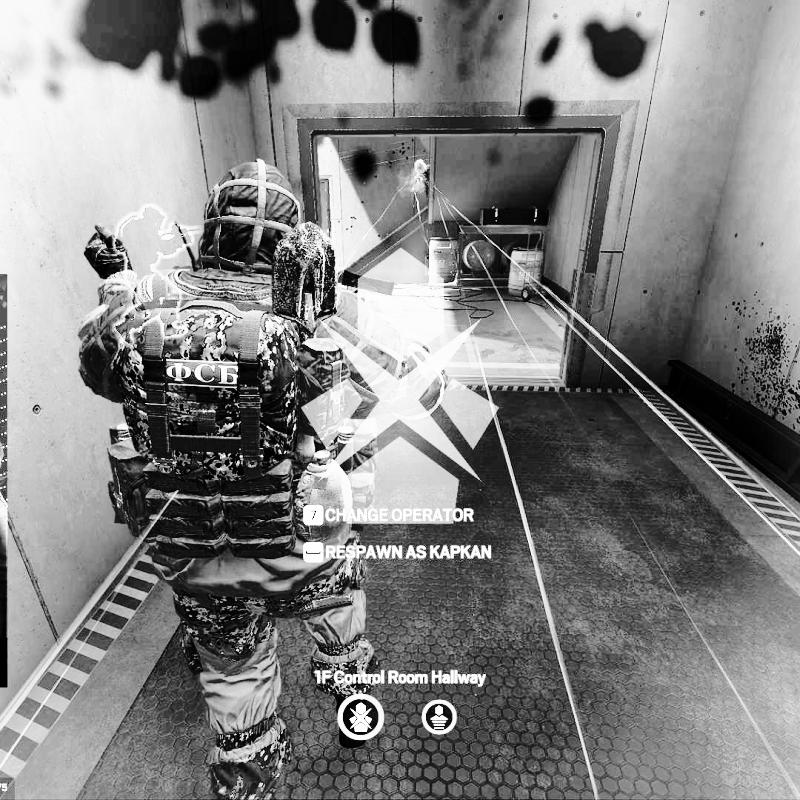Character: (74, 157, 453, 800), (413, 158, 431, 208)
Head: (194, 158, 306, 284), (415, 158, 429, 172)
